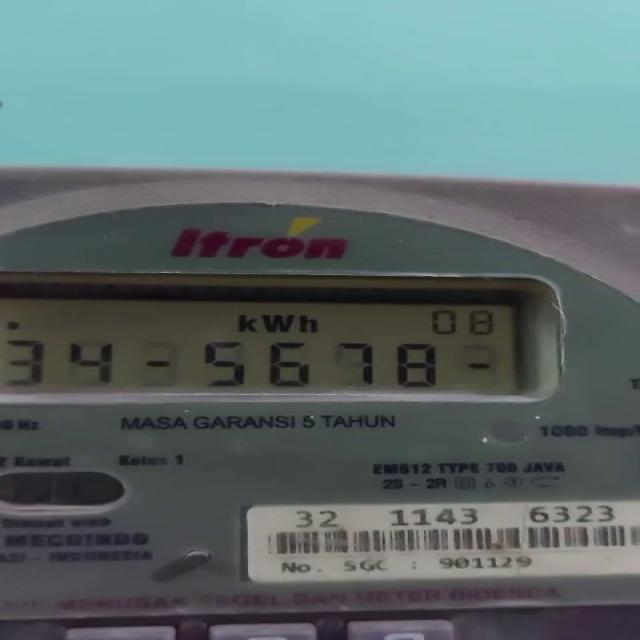LCD: (0, 276, 569, 399)
